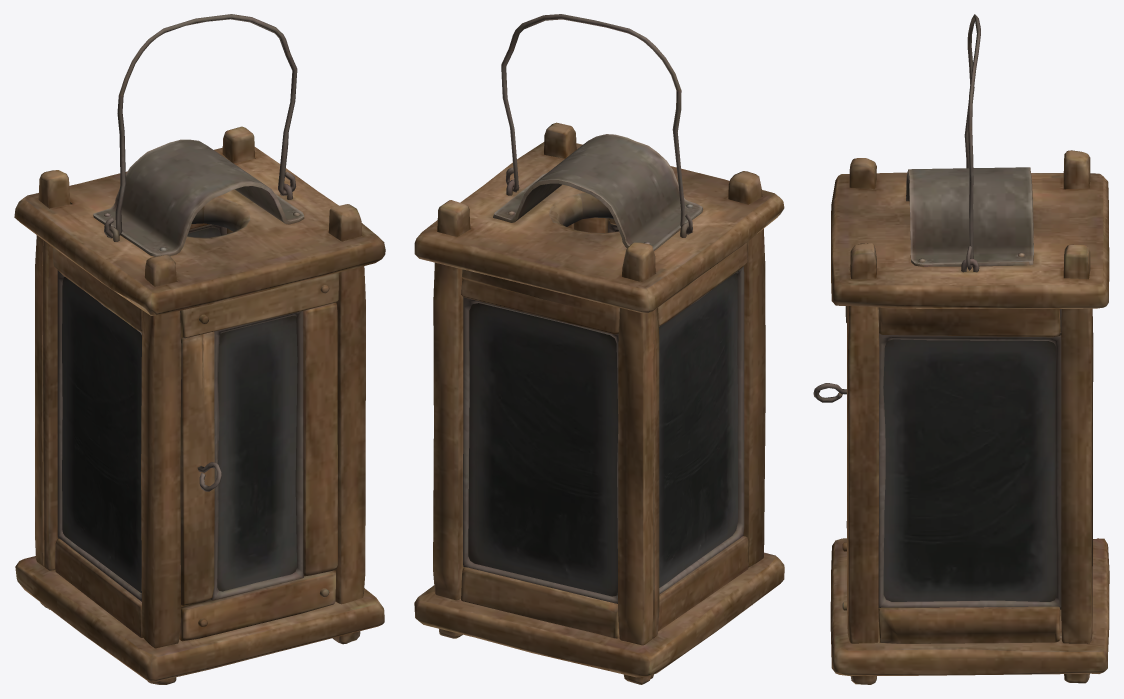
File: wooden_lantern_01.glb
3 renders of one model, left to right at view 1: azimuth 30°, elevation 25°; view 2: azimuth 150°, elevation 25°; view 3: azimuth 270°, elevation 25°, orthographic.
Visible parts, largest first — view 1: wooden_lantern_01; view 2: wooden_lantern_01; view 3: wooden_lantern_01.
Part boxes in pixels (x1=…): wooden_lantern_01: x1=14, y1=14, x2=385, y2=684; wooden_lantern_01: x1=414, y1=14, x2=784, y2=684; wooden_lantern_01: x1=813, y1=14, x2=1109, y2=684.
Bounding box in the file's own units: 0.2211 × 0.5296 × 0.2347.
2 materials, 2 textured.
